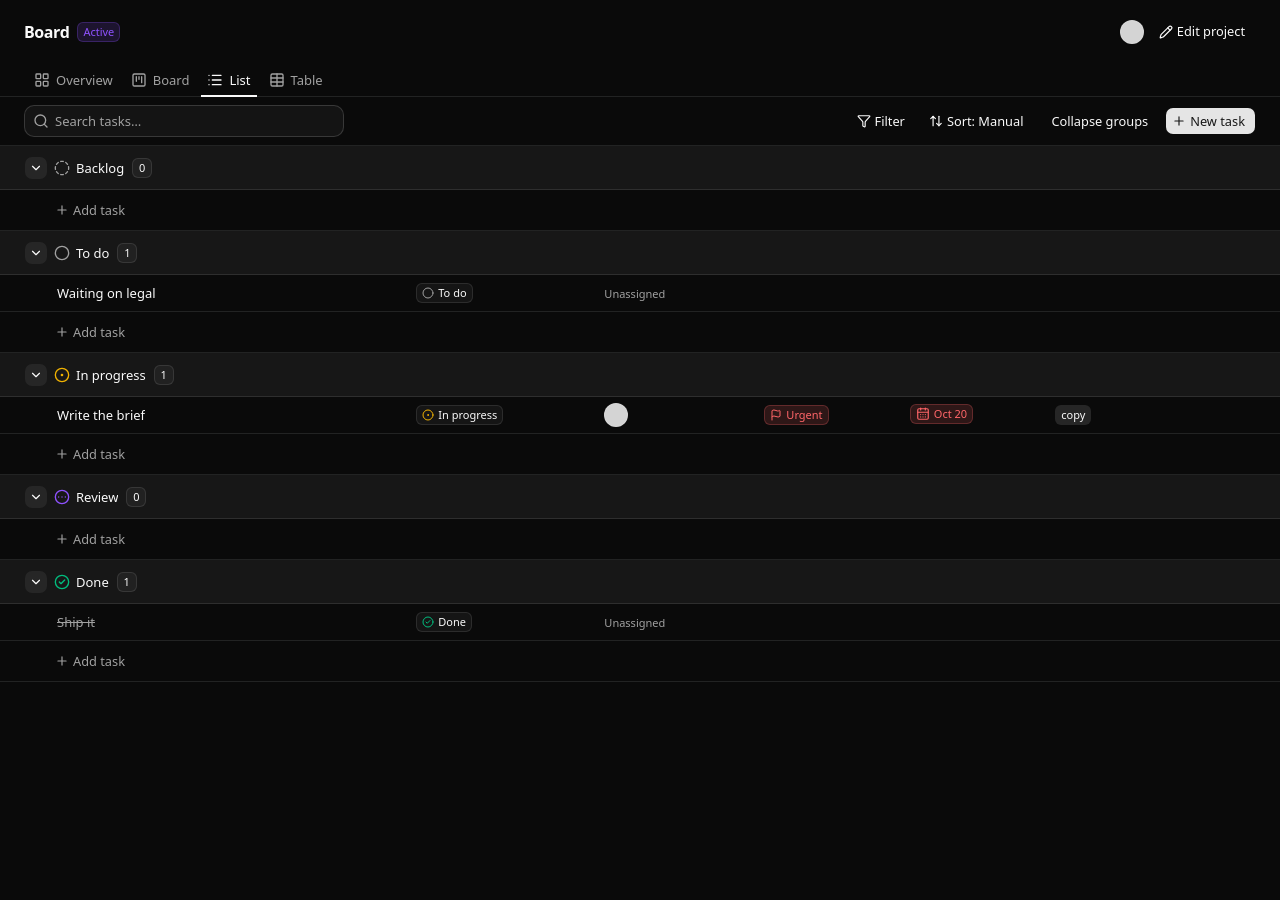
Scenario: a search that hides every task says so, and clears
Type "zebra" into the field labelled "Search tasks".
click(196, 121); type("zebra")  # box [49,105,343,137]
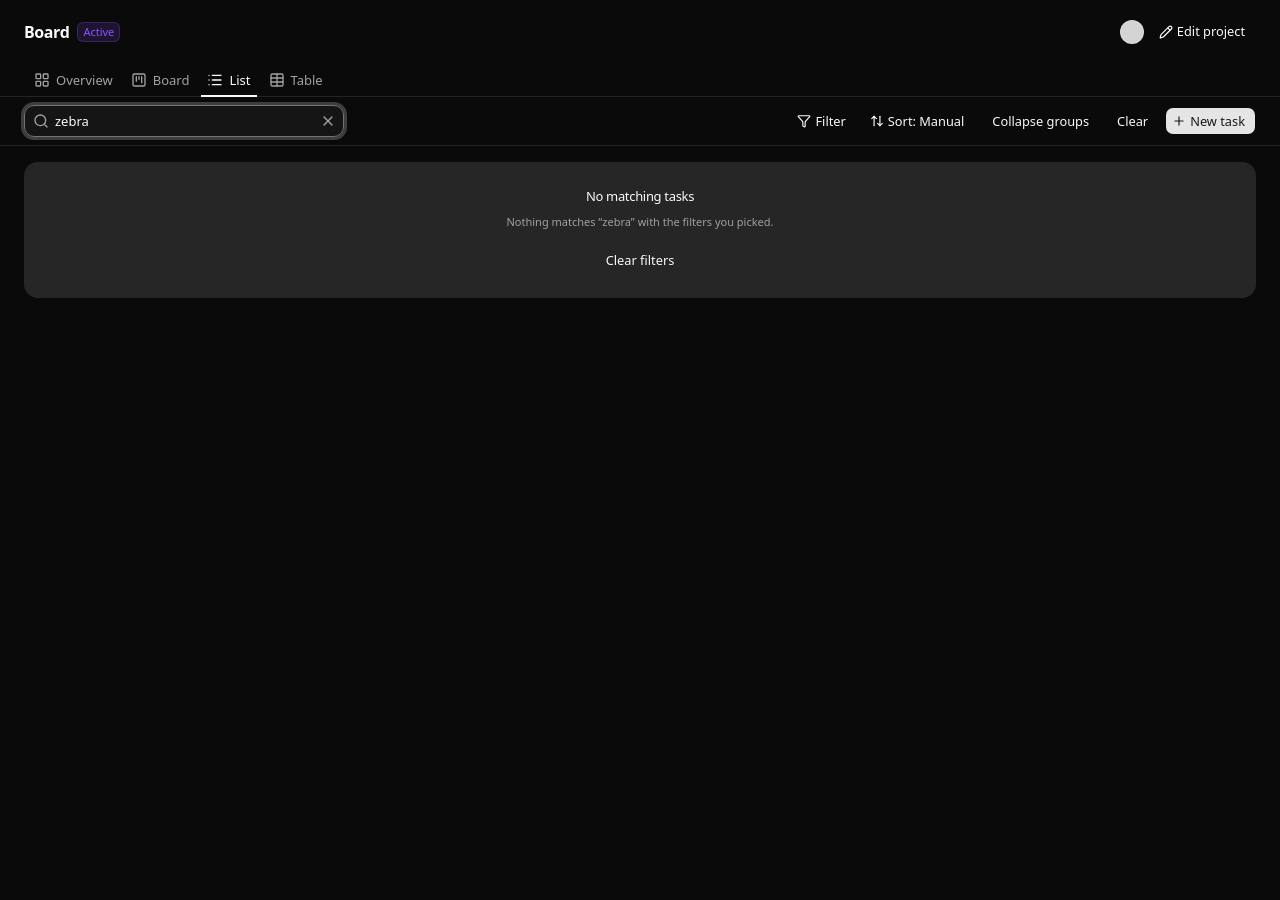
expect the text "No matching tasks" is shown: met, box [586,186,694,206]
expect the text "Nothing matches “zebra” with the filters you picked." is shown: met, box [506,214,774,230]
Click the button "Clear filters".
click(640, 260)  # box [595,246,685,274]
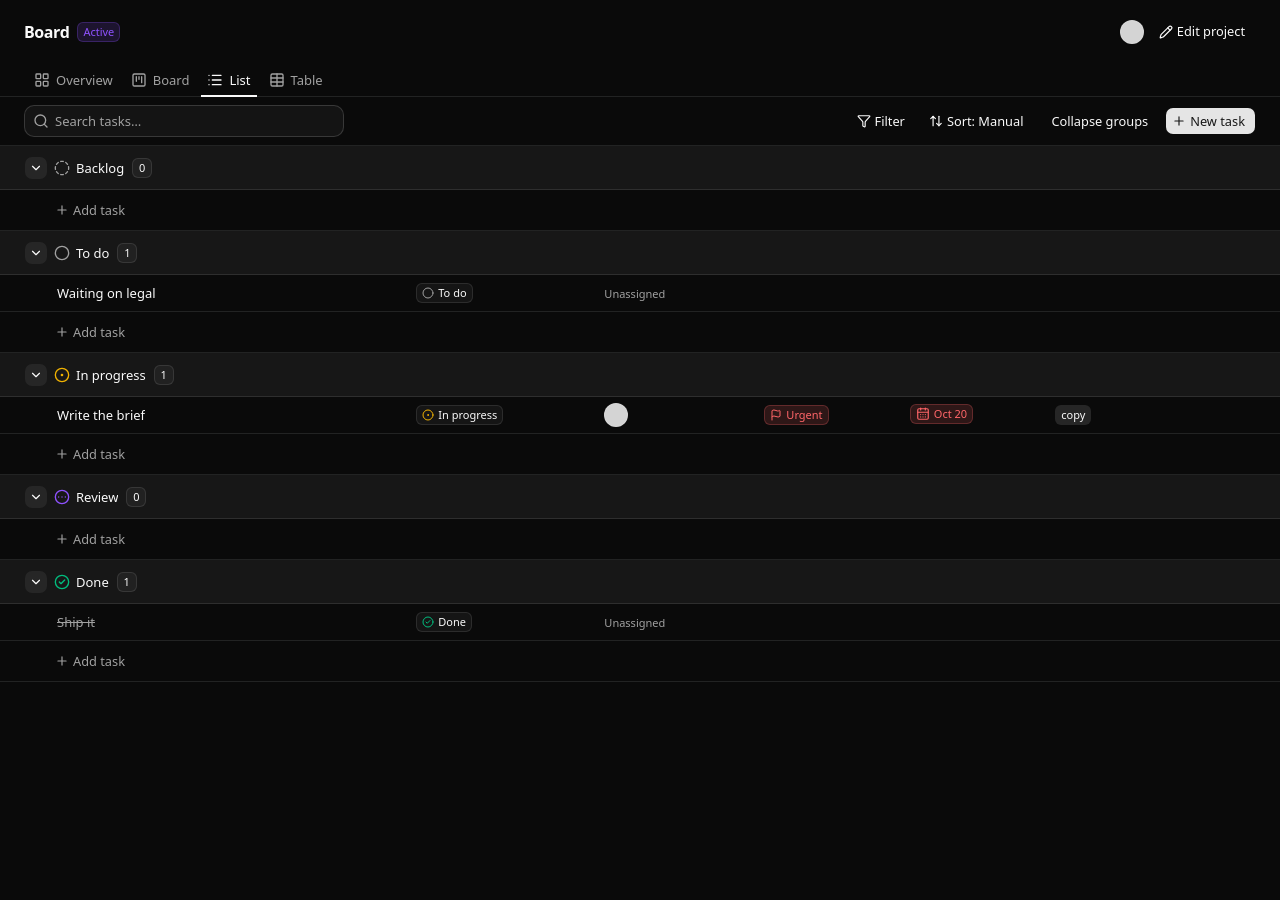
expect the field labelled "Search tasks" is empty: met, box [49,105,343,137]
expect the text "Write the brief" is shown: met, box [57,404,145,426]
